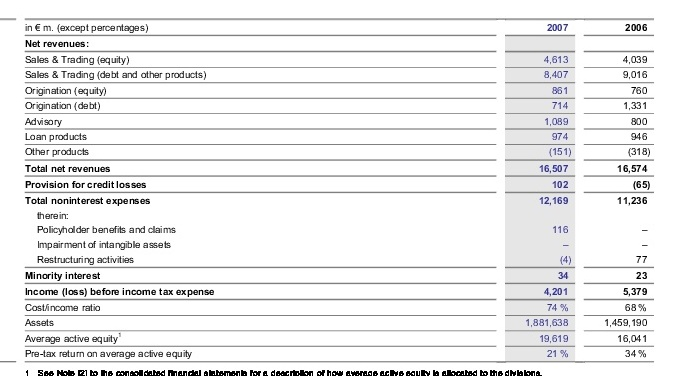table: (0, 0, 677, 376)
